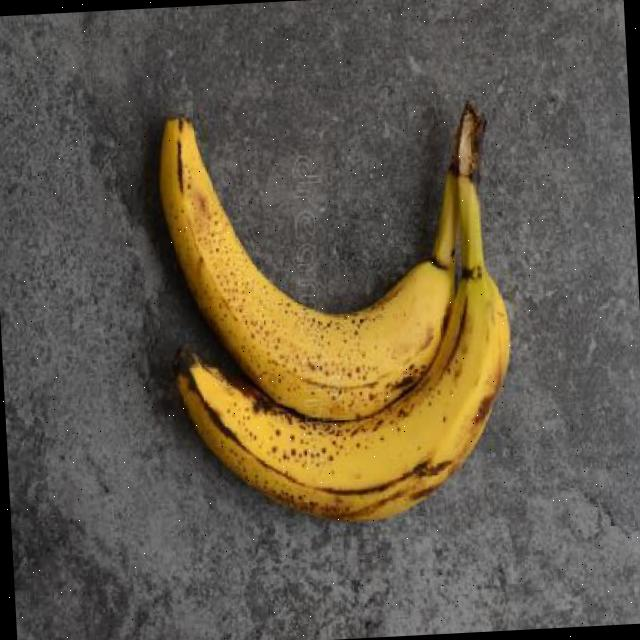banana: (174, 134, 503, 493), (161, 121, 439, 415)
